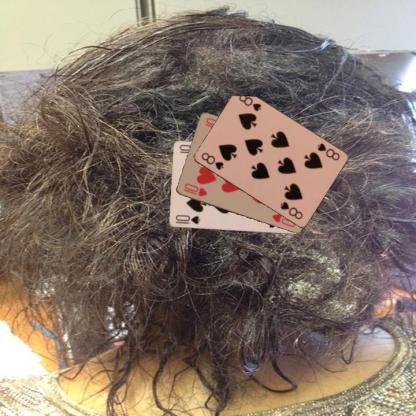10h: (180, 180, 208, 198)
10s: (173, 213, 201, 225)
8s: (314, 140, 341, 162), (198, 150, 225, 171)
